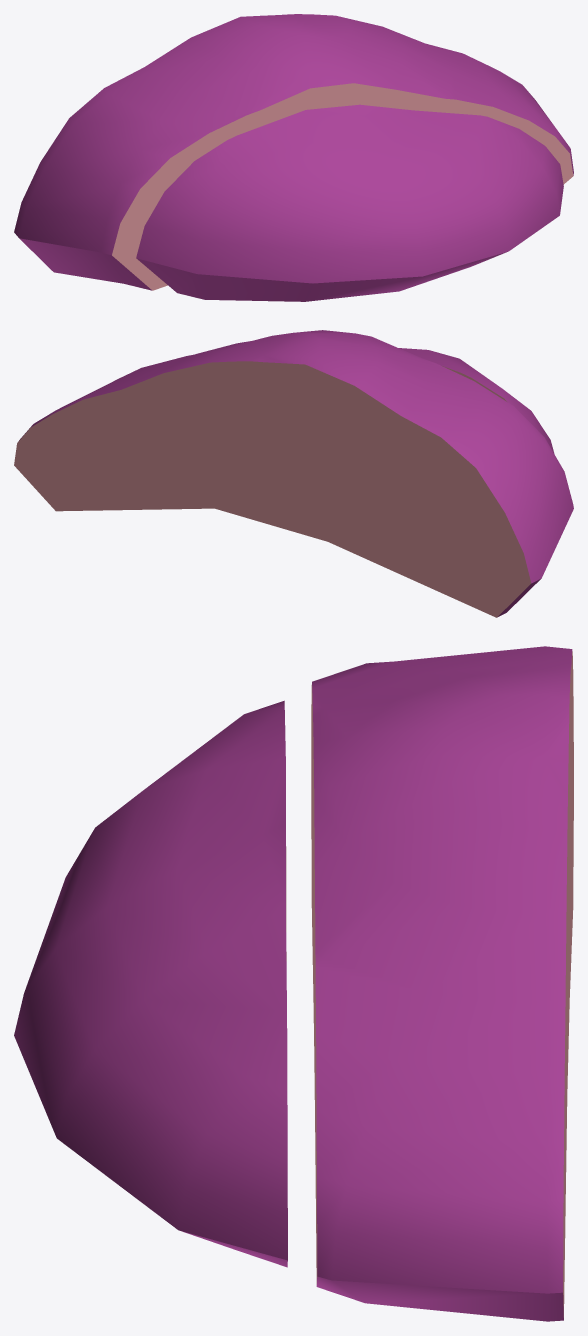
The model's file is Cogumelos Potion.fbx.
3 renders of one model, top to bottom at view 1: azimuth 30°, elevation 25°; view 2: azimuth 150°, elevation 25°; view 3: azimuth 270°, elevation 25°, orthographic. The views are drawn at different scales.
Parts seen in each view (by area): view 1: Sphere.005; view 2: Sphere.005; view 3: Sphere.005.
Boxes of the visible parts, bbox=[...] form: Sphere.005: bbox=[14, 14, 573, 301]; Sphere.005: bbox=[14, 330, 573, 617]; Sphere.005: bbox=[14, 646, 573, 1321].
Bounding box in the file's own units: 59.69 × 23.13 × 29.52.
